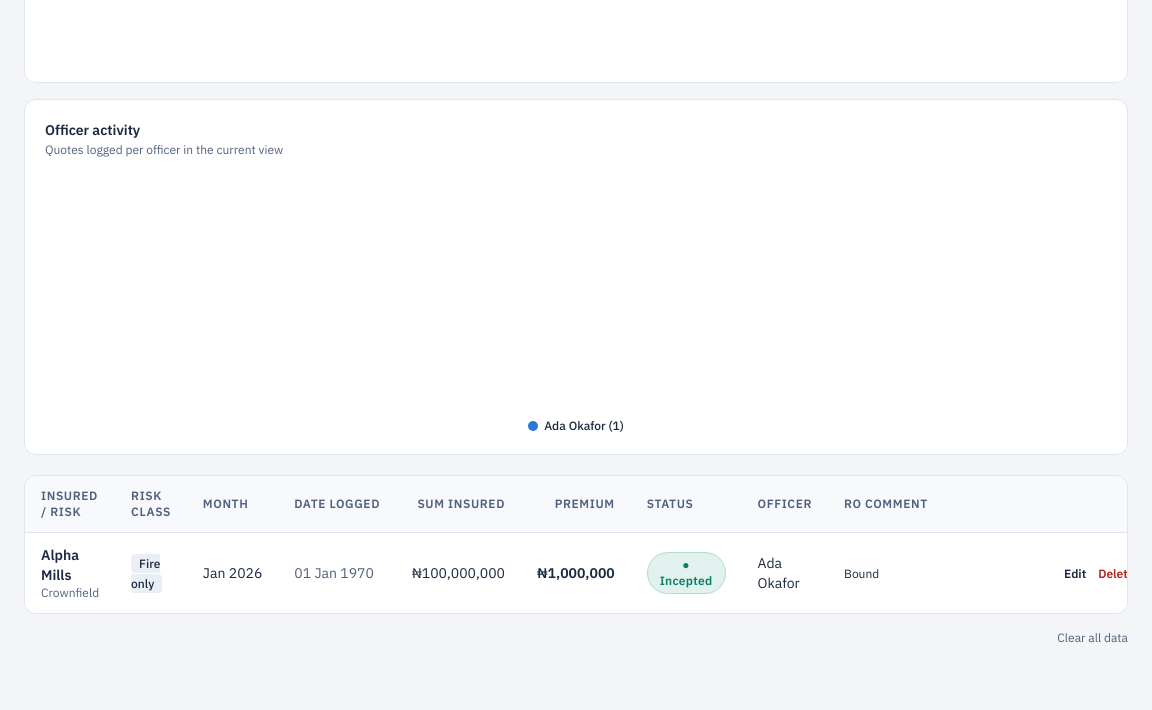
Test: UnitRegister › edits the RO comment inline
This screenshot has width=1152, height=710.
(page scrolled)
Check: the text "Alpha Mills" is shown, box [41,546,79,584]
Click the button "Bound". click: (862, 574)
box: [844,566,879,582]
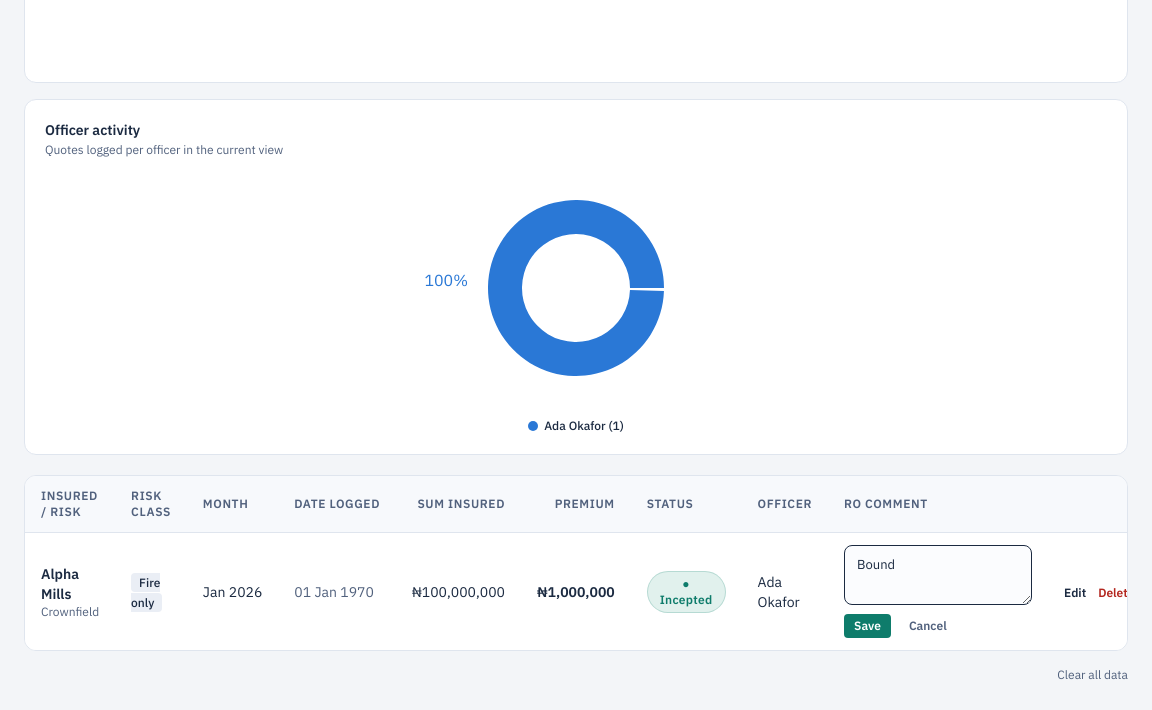
Replace the text in the text box named "edit ro comment" with "Premium received in full". click: (938, 575)
box: [844,545,1032,605]
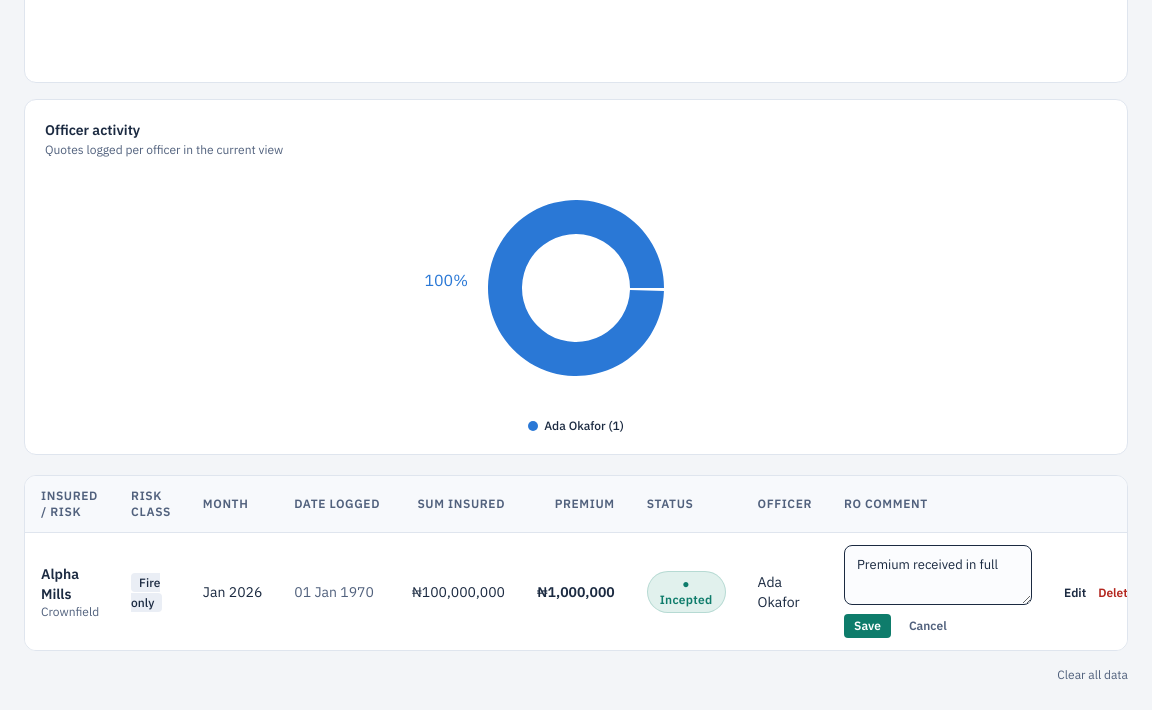
Click the button "Save". click: (867, 626)
box: [844,614,891,638]
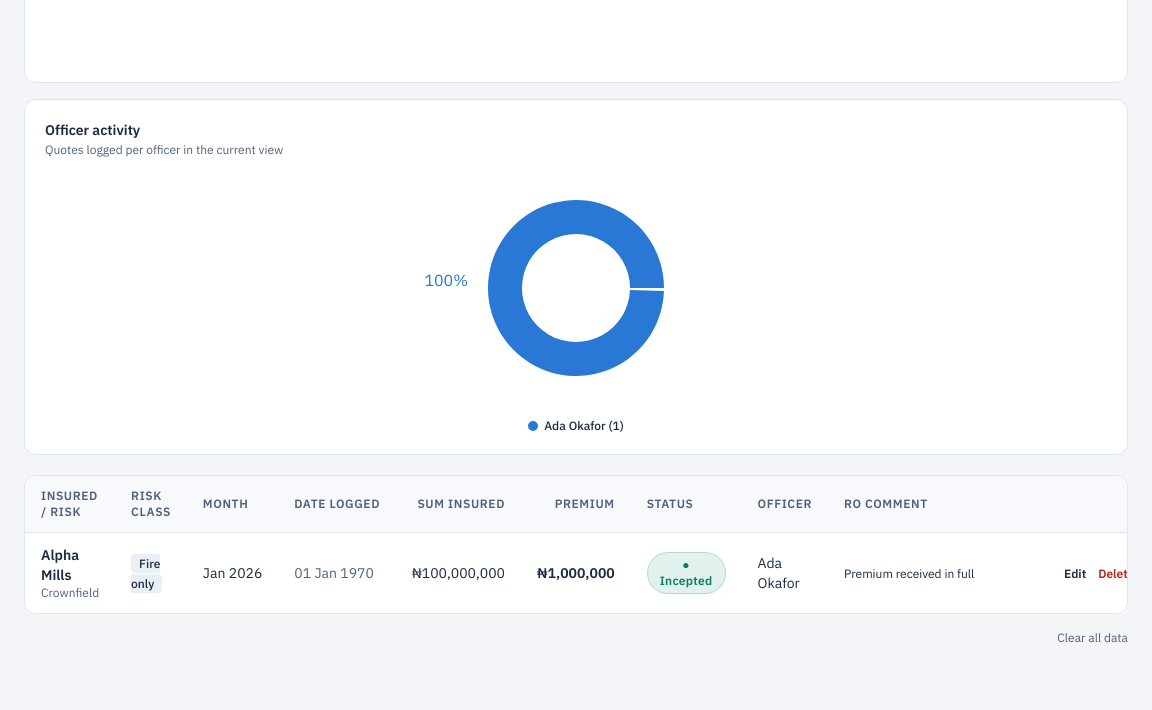
Check: the button "Premium received in full" is shown, box [844,566,974,582]
